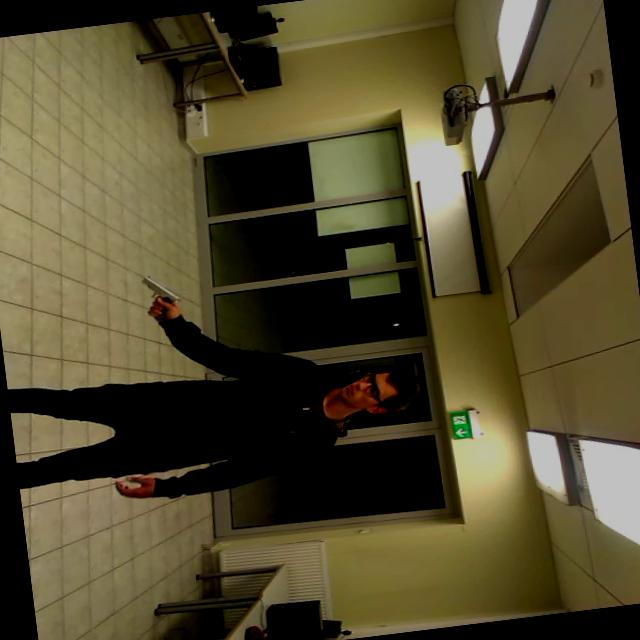handgun: (124, 265, 202, 326)
